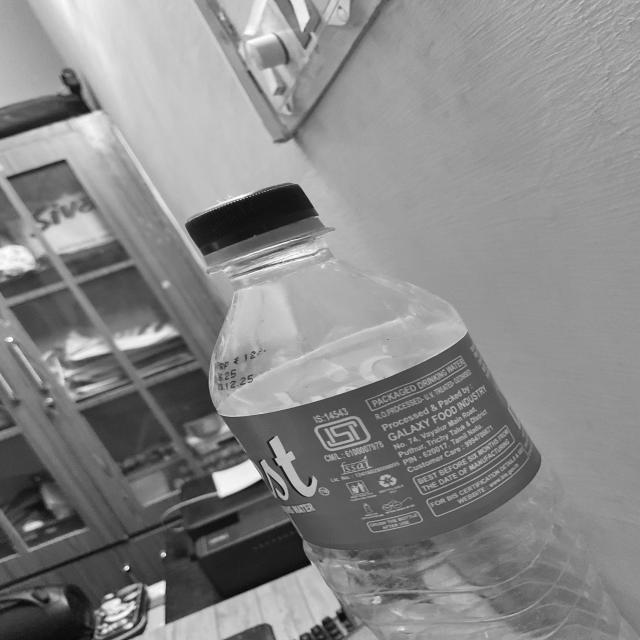Good-cap-Df0S: (182, 183, 330, 272)
